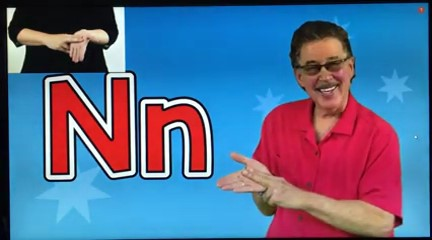N: (213, 149, 311, 217)
